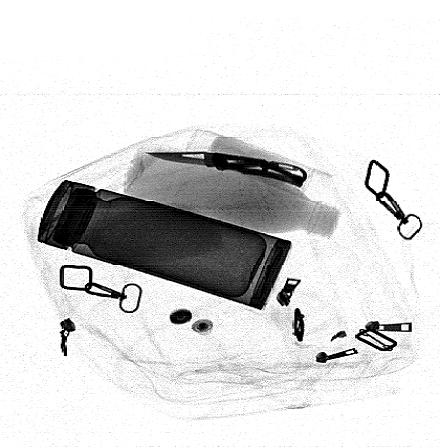Knife: (143, 150, 308, 189)
